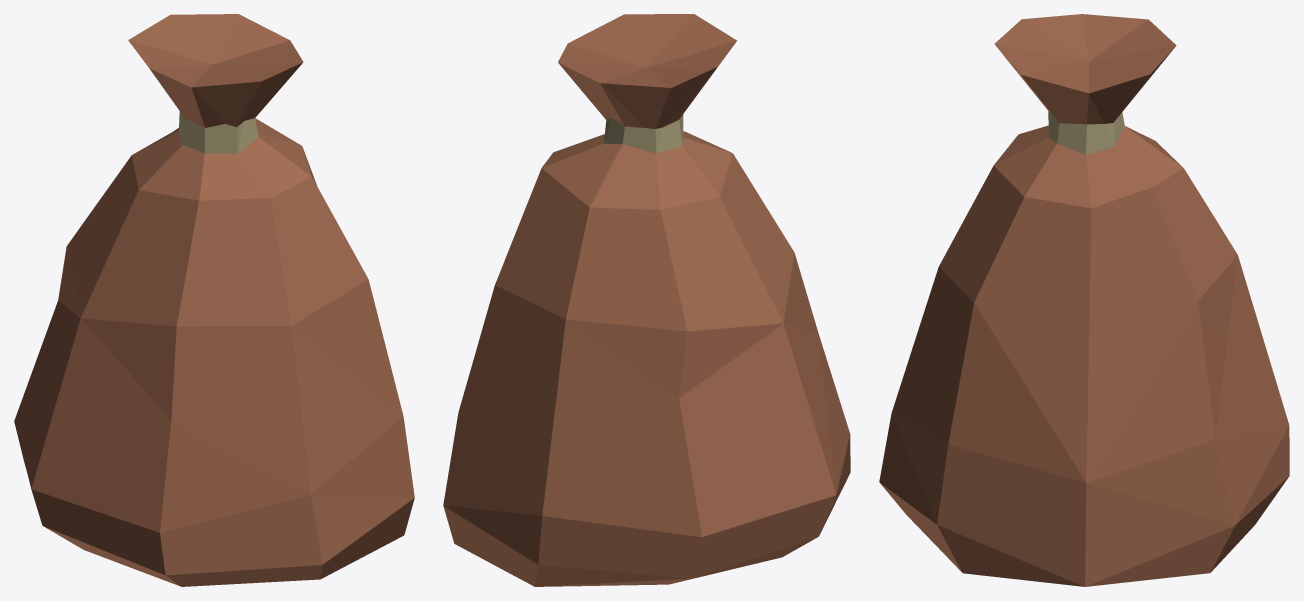
Rendered from fantasy_coin_bag_1.fbx.
The picture shows the model from 3 angles, left to right: view 1: azimuth 30°, elevation 25°; view 2: azimuth 150°, elevation 25°; view 3: azimuth 270°, elevation 25°; orthographic projection. The views are drawn at different scales.
Parts seen in each view (by area): view 1: Sphere.002; view 2: Sphere.002; view 3: Sphere.002.
Part boxes in pixels (bbox=[...]): Sphere.002: bbox=[14, 14, 414, 586]; Sphere.002: bbox=[443, 14, 850, 586]; Sphere.002: bbox=[879, 14, 1289, 586].
Size of the model in its own units: 25.24 by 32.2 by 24.95.
